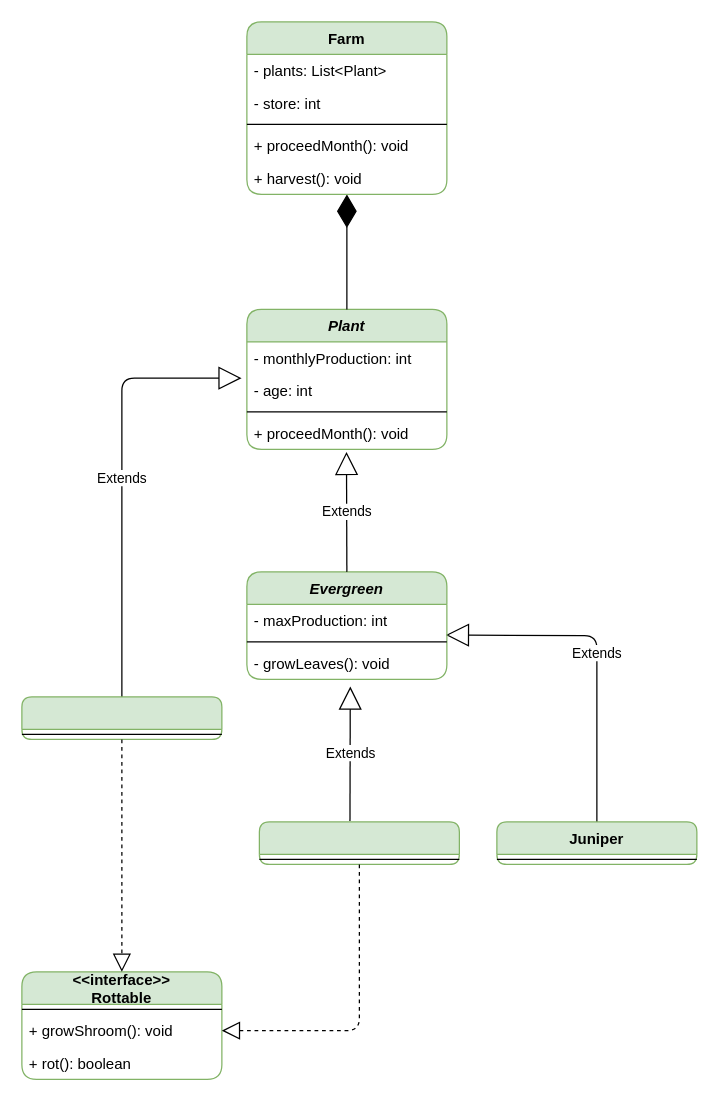
This 719x1105 diagram has some shape labels left out. Each missing label, with the centre of its shape:
AlmondTree: pixel 121 717
Spruce: pixel 358 842
